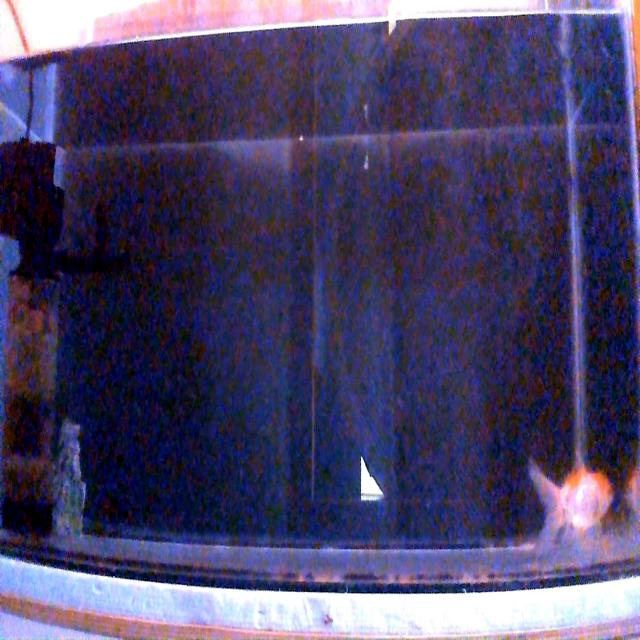fish: (529, 457, 614, 536), (625, 467, 639, 519)
